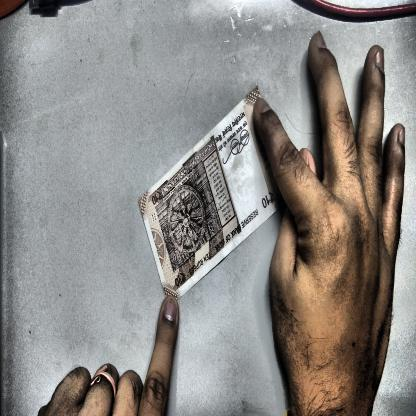Rs10: (259, 185, 279, 214), (149, 184, 166, 212)
